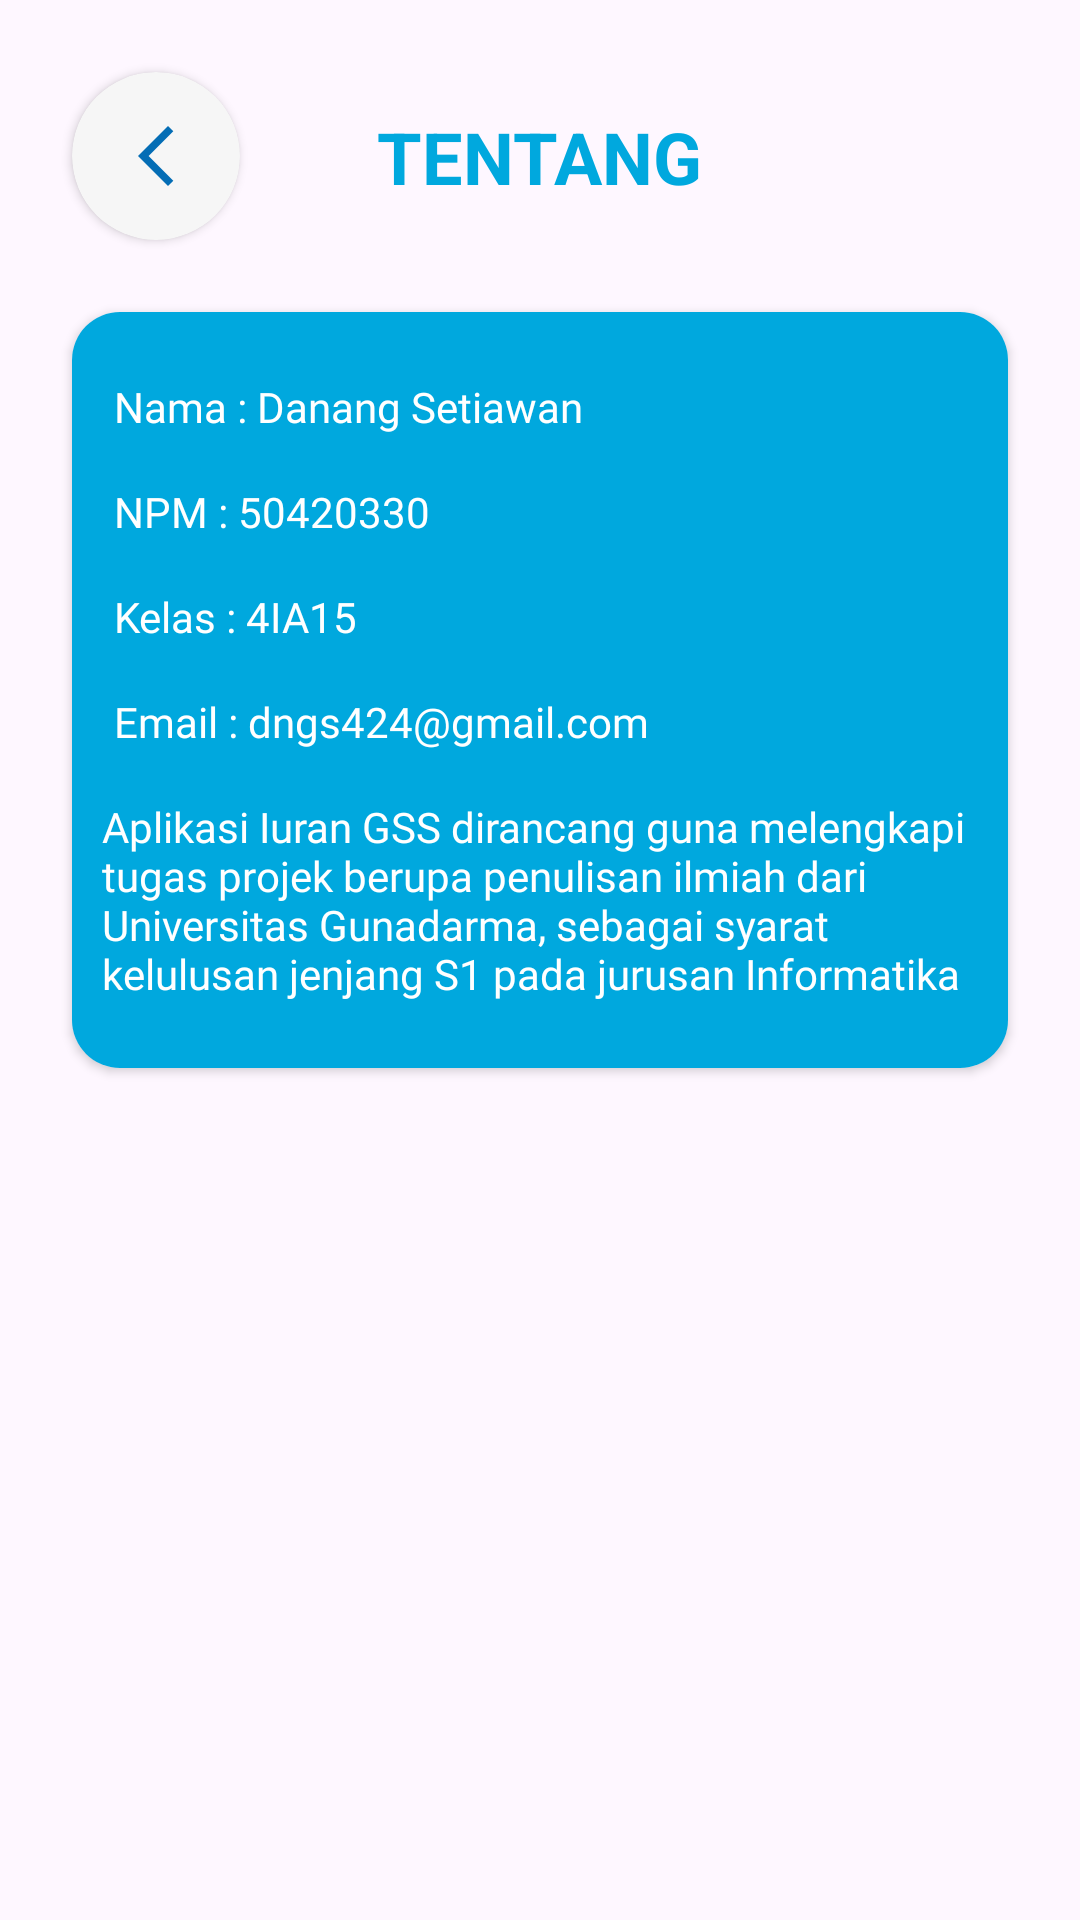

Icon click points for this 1080×1920 phone screenshot, format [x,y]:
back: [156,156]
